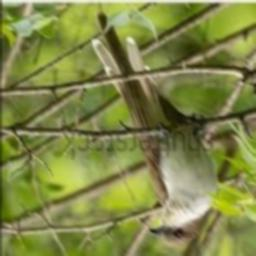Cuckoo: (90, 14, 216, 247)
